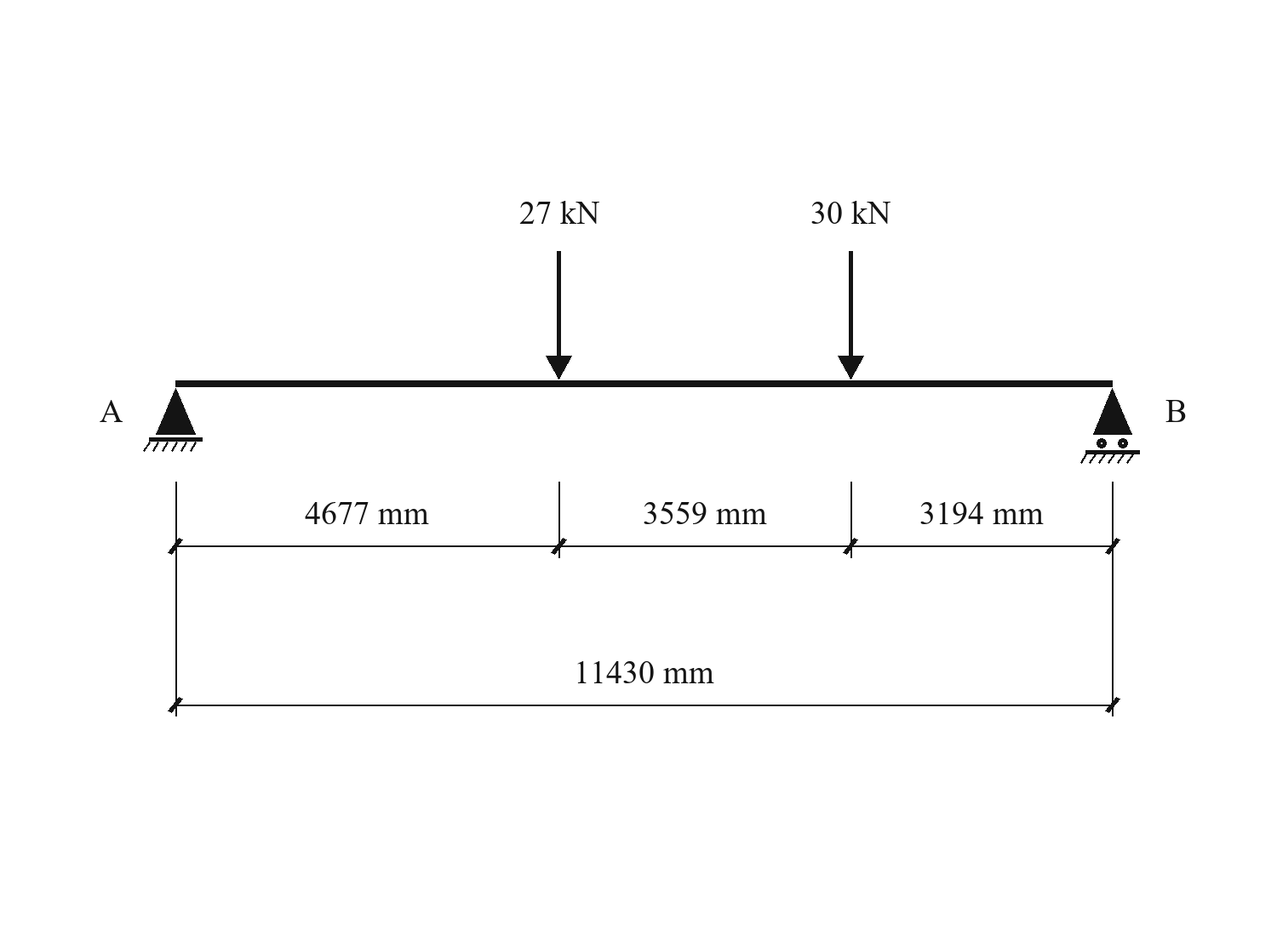pin_support: (143, 388, 203, 452)
point_load: (546, 251, 572, 380), (838, 251, 864, 380)
roller_support: (1080, 388, 1140, 464)
